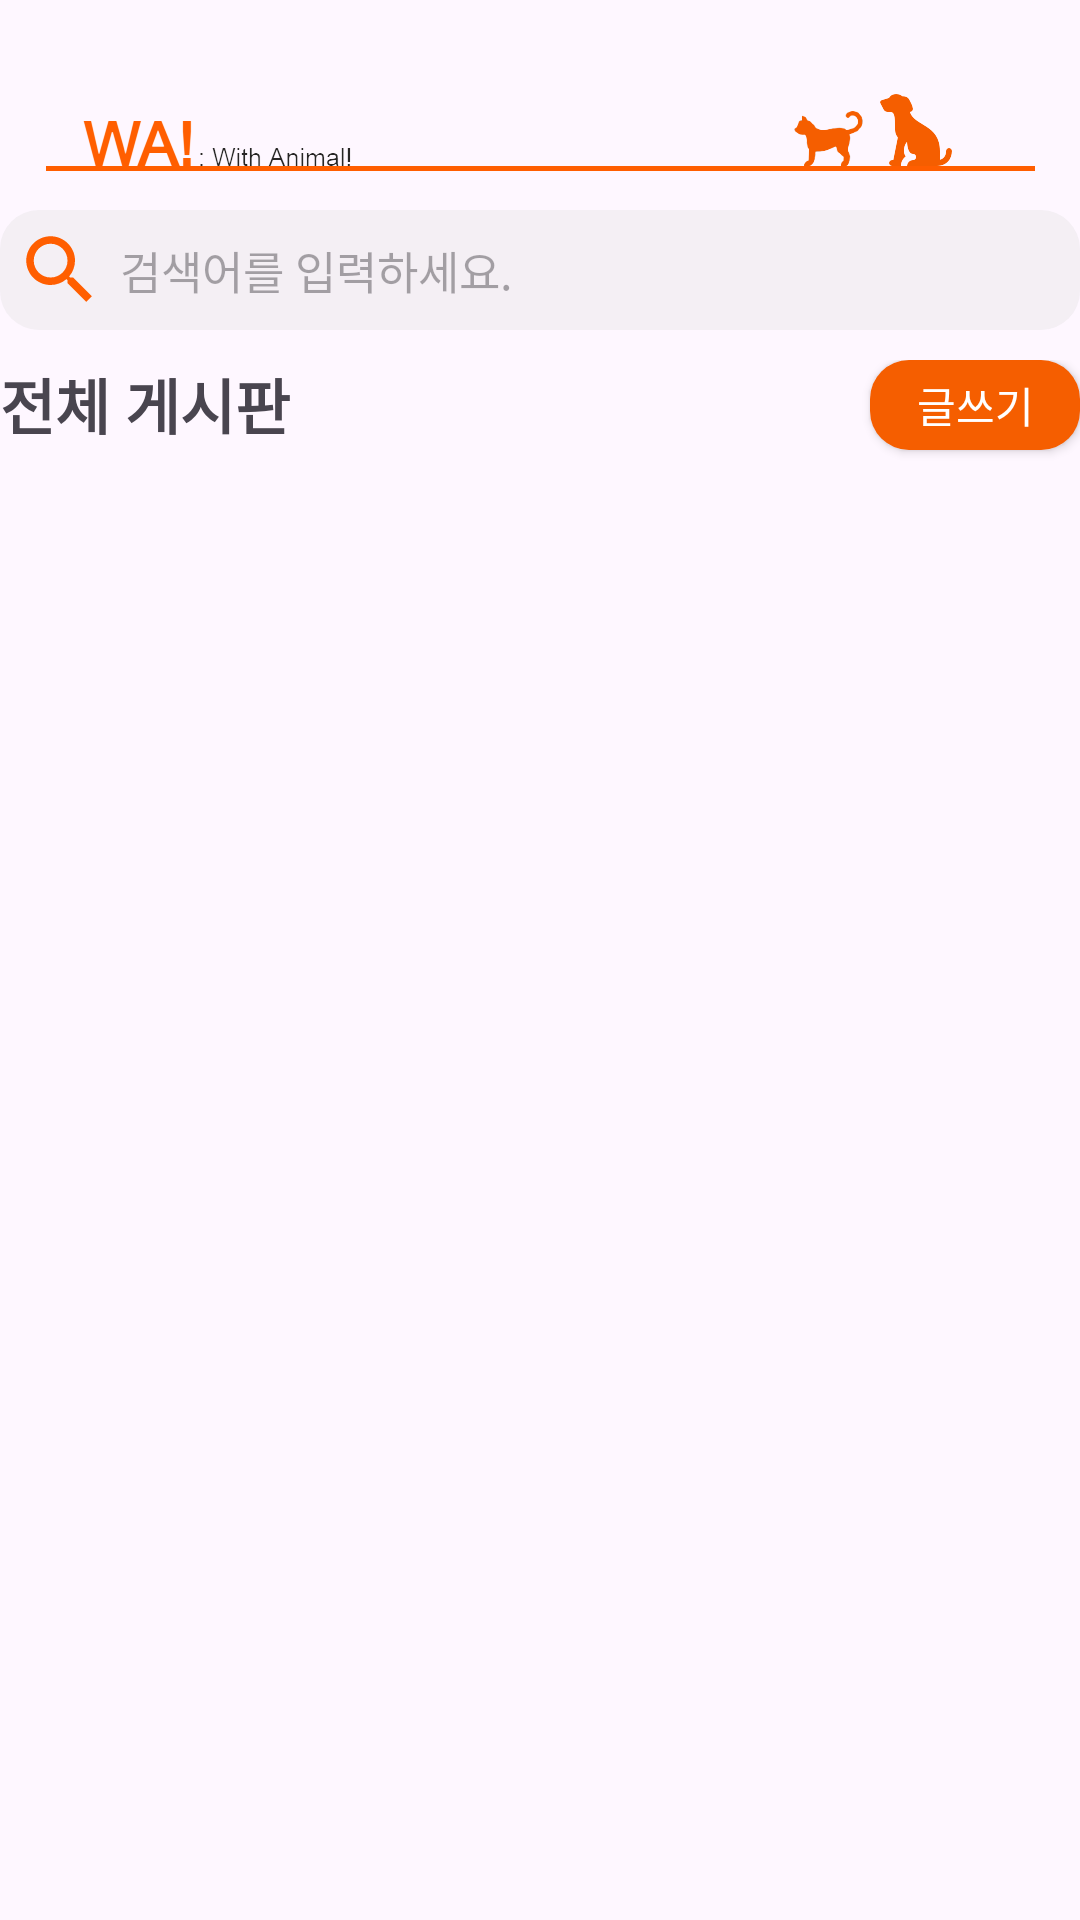

Where icons sit on this 1080w x 1920h app screen, as detection(x1, y1, x2, y2):
search: detection(26, 236, 92, 302)
